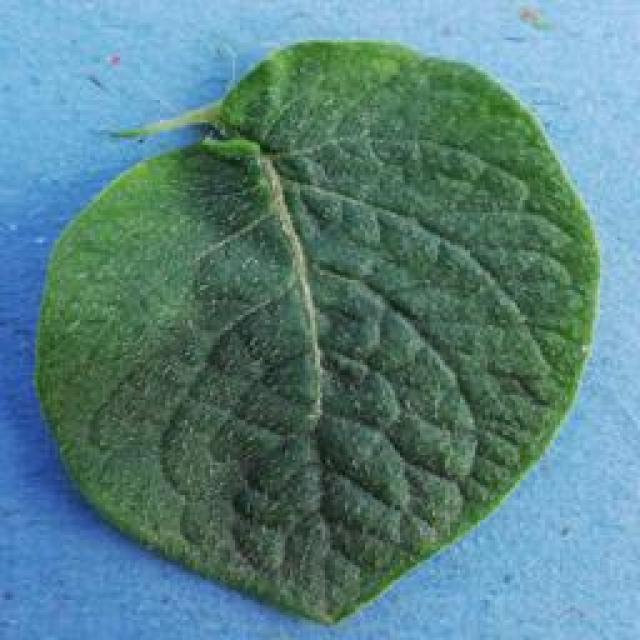Potato_Healthy: (38, 40, 596, 622)
